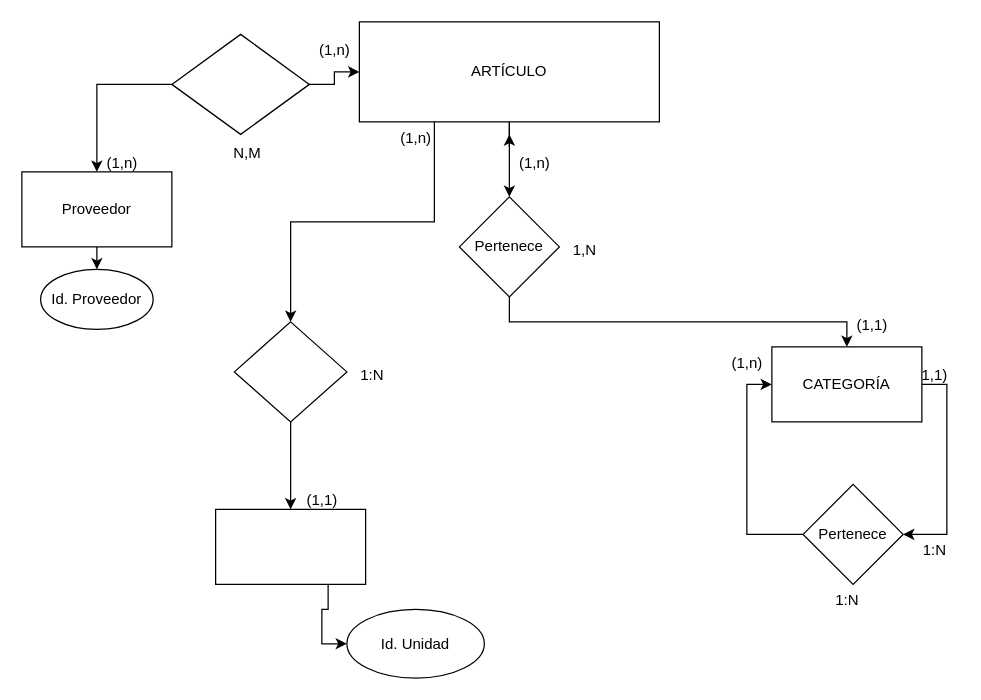
The diagram is 981 pixels wide and 700 high, and some of its shapes have lost their labels. Each missing label, with the centre of its shape:
"Suministra" goes at point 240,83.
"Tiene" goes at point 290,371.
"Unidad Medida" goes at point 290,546.
